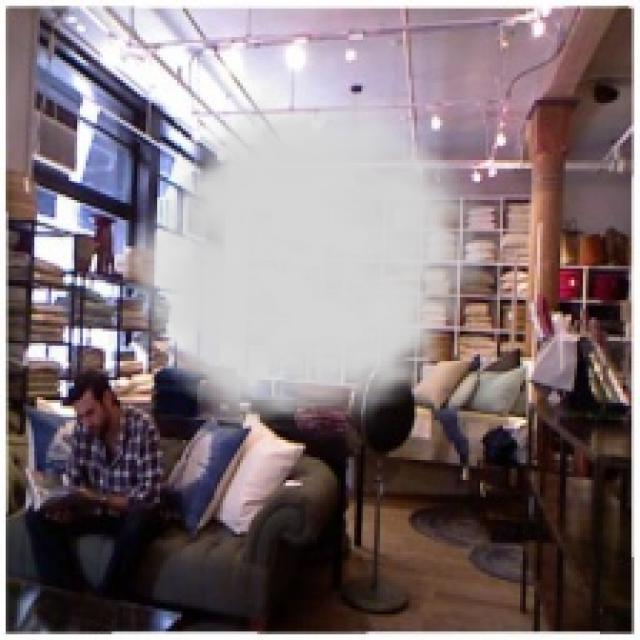smoke: (108, 88, 506, 443)
